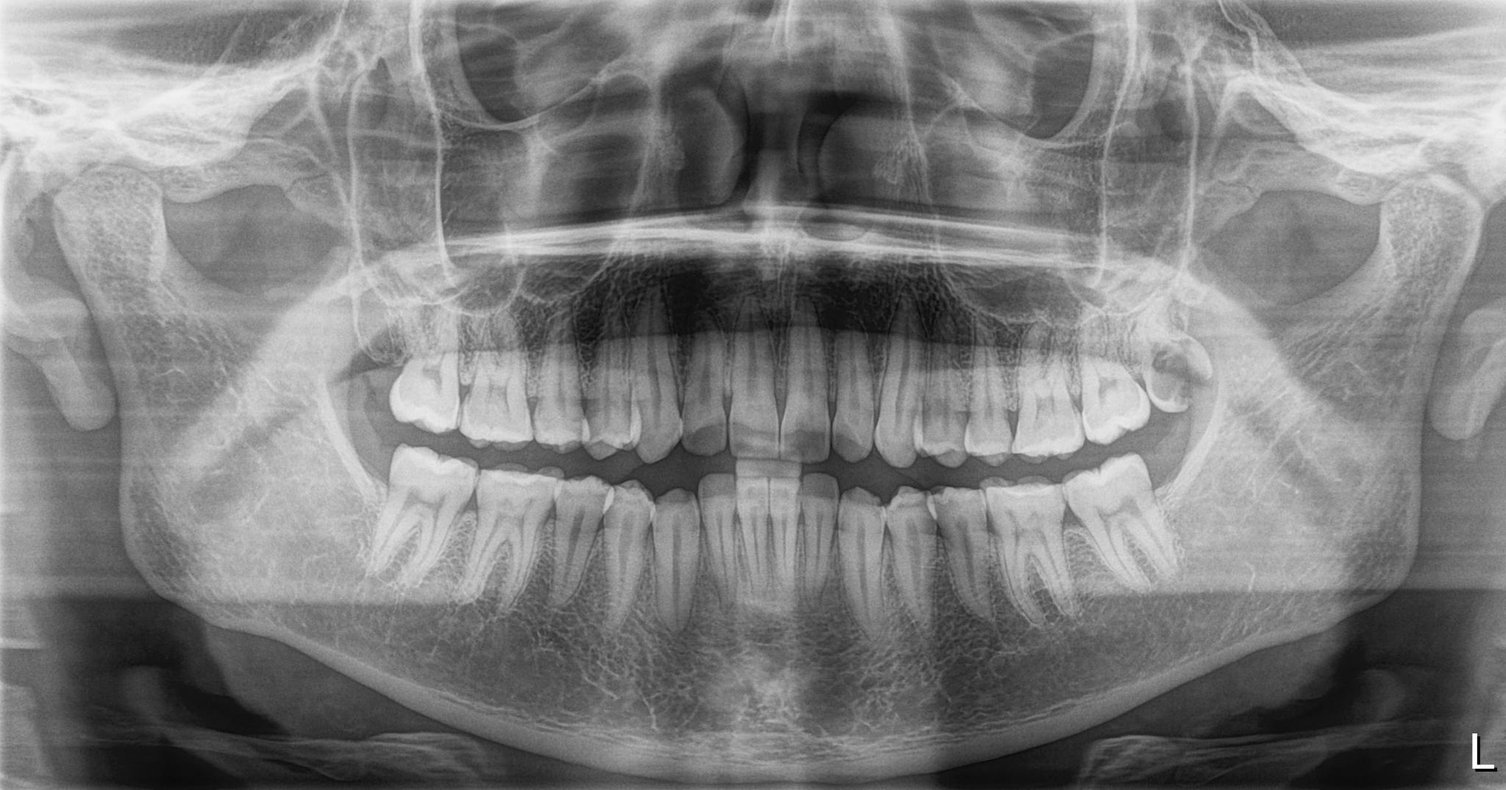Dental Caries: (1140, 320, 1213, 408), (783, 424, 827, 461)
Impacted Third Molar: (1070, 461, 1170, 596)
